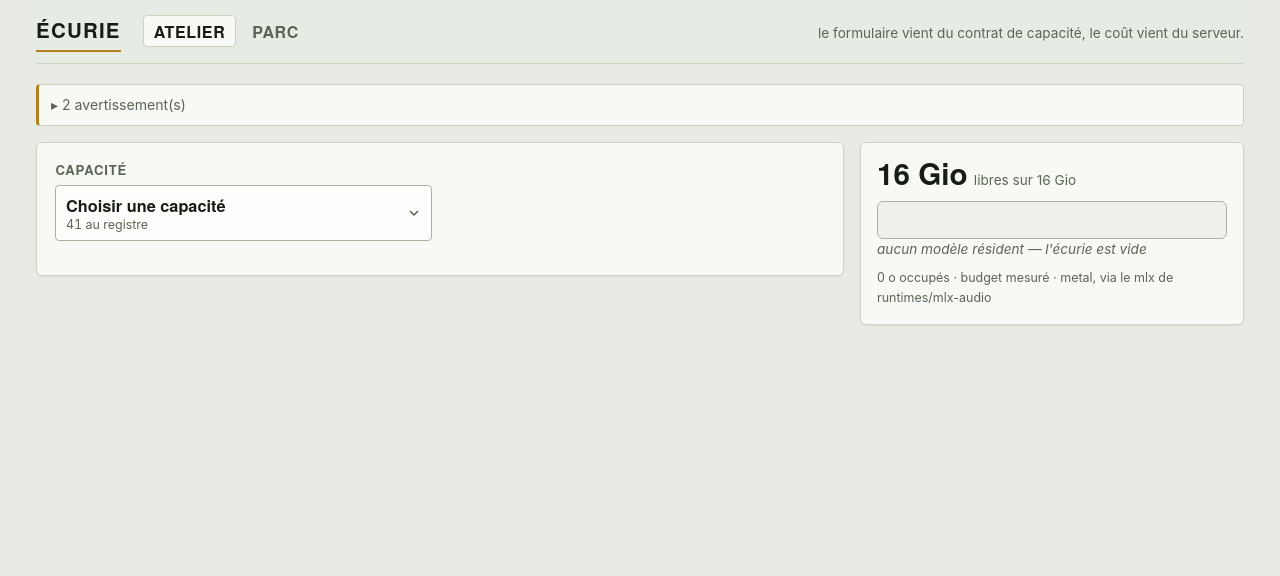
Scenario: le bandeau de ressources › il previent quand le pic depend de l_entree
Click the button "Choisir une capacité 41 au registre": click(146, 205) [55,185,432,241]
(page scrolled)
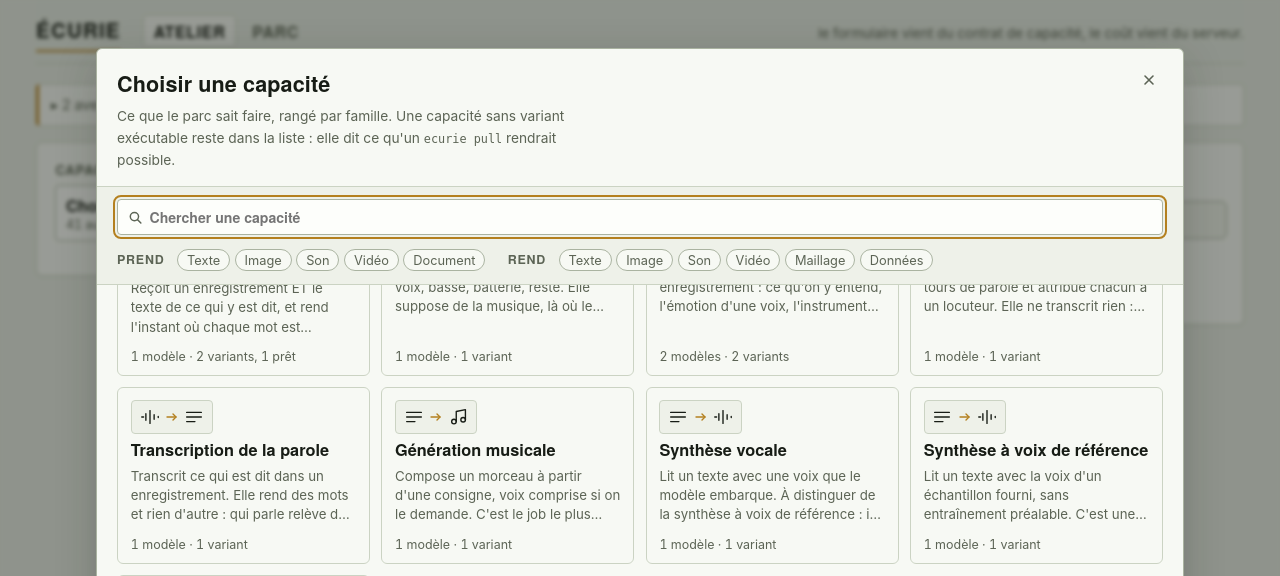
Click the button "Génération musicale": click(508, 475) [381,387,634,564]
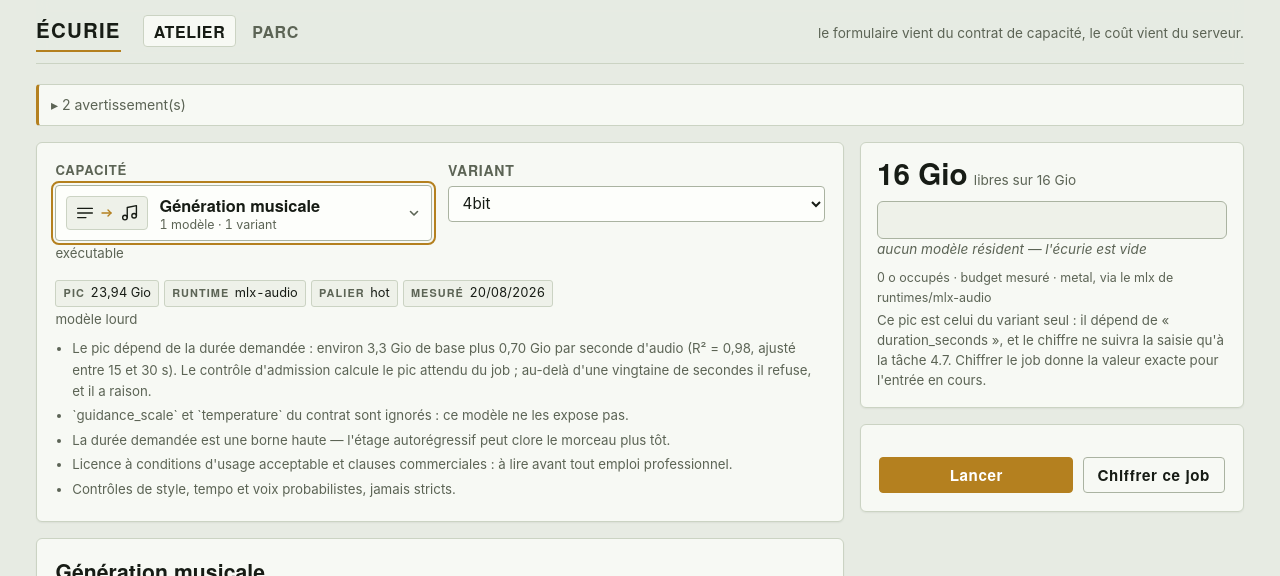
expect the text "duration_seconds" is shown: met, box [877,332,988,348]
